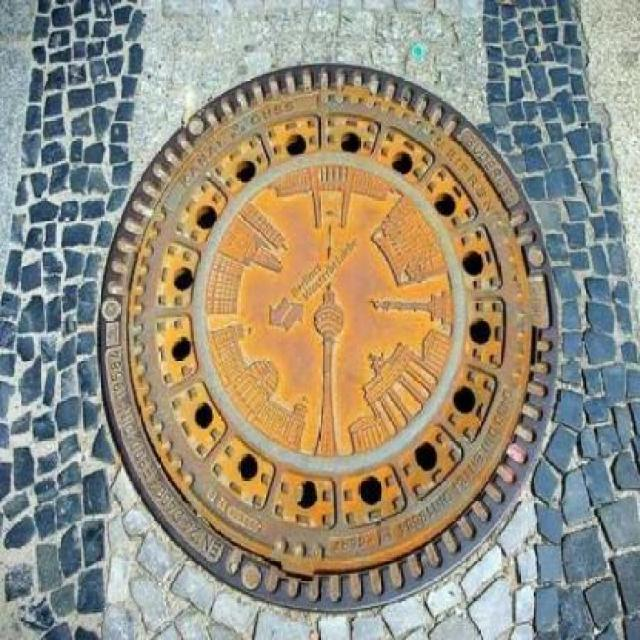Manhole: (80, 48, 572, 628)
